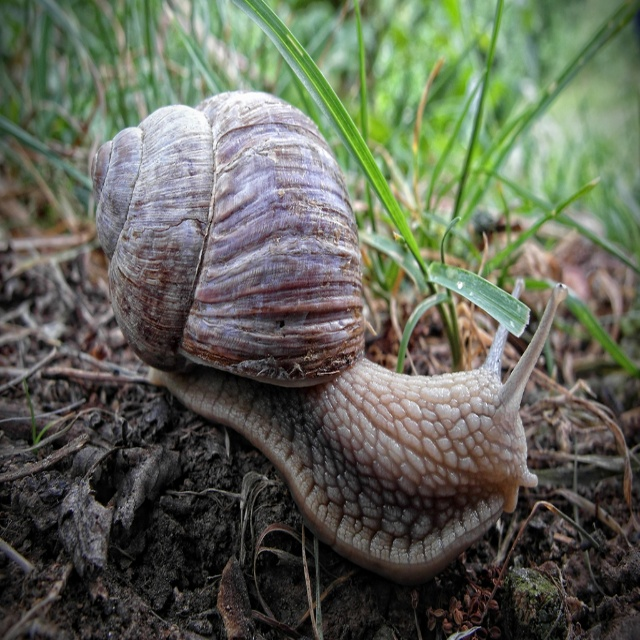Snail: (92, 85, 569, 582)
